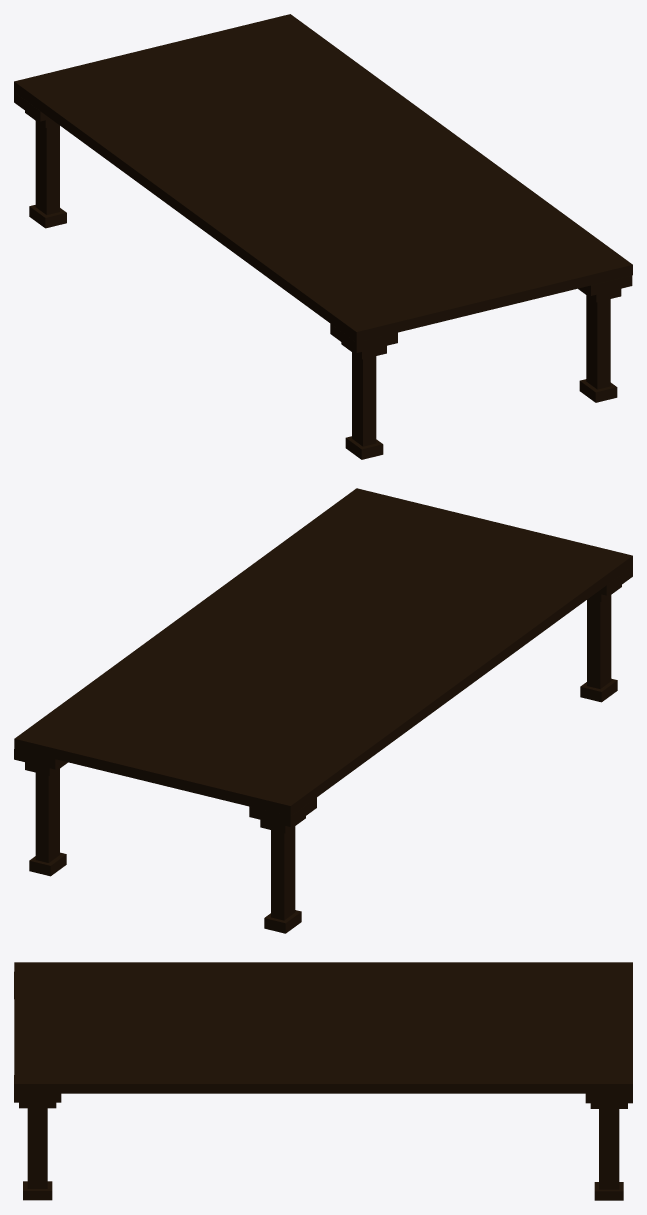
Rendered from dinningroom_table.fbx.
3 renders of one model, top to bottom at view 1: azimuth 30°, elevation 25°; view 2: azimuth 150°, elevation 25°; view 3: azimuth 270°, elevation 25°, orthographic. The views are drawn at different scales.
Parts seen in each view (by area): view 1: Cube_6, Cube_15, Cube_12, Cube_18, Cube_13; view 2: Cube_6, Cube_21, Cube_18, Cube_15, Cube_16; view 3: Cube_6, Cube_21, Cube_12, Cube_19, Cube_10, Cube_22, Cube_25.
Part boxes in pixels (left/top/right/bottom): Cube_6: left=14, top=14, right=632, bottom=342; Cube_15: left=352, top=352, right=376, bottom=446; Cube_12: left=586, top=295, right=610, bottom=389; Cube_18: left=35, top=121, right=59, bottom=214; Cube_13: left=330, top=323, right=397, bottom=352; Cube_6: left=14, top=488, right=632, bottom=816; Cube_21: left=35, top=769, right=59, bottom=862; Cube_18: left=271, top=826, right=295, bottom=920; Cube_15: left=587, top=595, right=611, bottom=688; Cube_16: left=249, top=797, right=316, bottom=826; Cube_6: left=14, top=962, right=632, bottom=1093; Cube_21: left=599, top=1109, right=619, bottom=1189; Cube_12: left=27, top=1108, right=47, bottom=1188; Cube_19: left=585, top=1093, right=632, bottom=1103; Cube_10: left=14, top=1075, right=61, bottom=1102; Cube_22: left=23, top=1181, right=52, bottom=1200; Cube_25: left=594, top=1182, right=623, bottom=1200.
Bounding box in the file's own units: 161 × 74.45 × 345.
